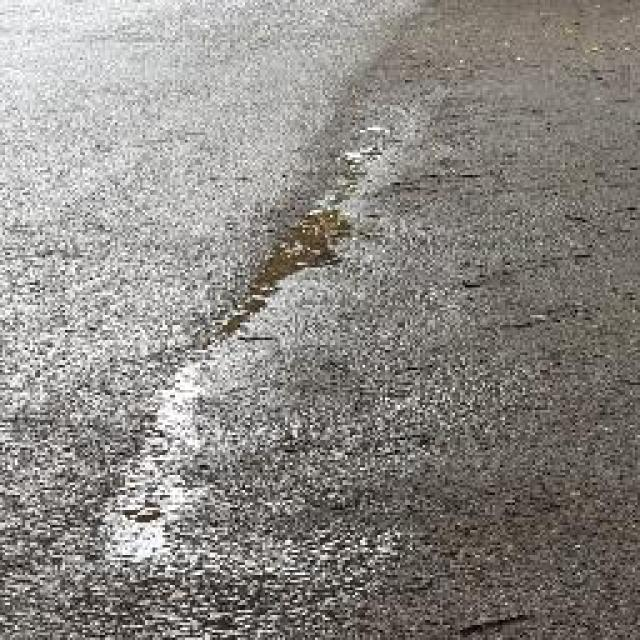stagnation: (166, 164, 385, 364)
